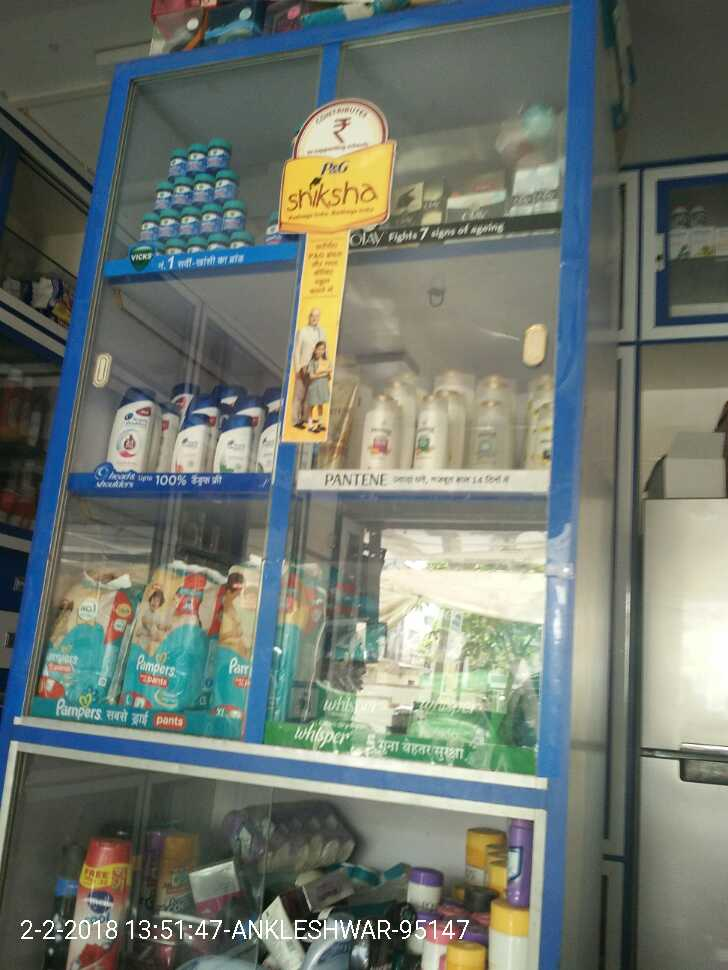beauty: (104, 381, 160, 467), (463, 371, 508, 468), (359, 390, 404, 473), (408, 391, 449, 469), (166, 402, 207, 474), (215, 406, 253, 469), (439, 194, 504, 221), (535, 164, 560, 216), (513, 169, 531, 221)
pharmacy: (37, 562, 137, 719), (308, 634, 423, 736), (130, 553, 194, 715), (204, 138, 230, 173), (160, 145, 184, 177), (211, 170, 235, 202), (220, 202, 245, 232), (199, 201, 219, 233), (156, 212, 179, 239), (184, 142, 204, 173), (135, 214, 156, 242), (153, 178, 170, 210), (171, 178, 191, 204), (192, 175, 208, 202), (178, 212, 197, 234)
